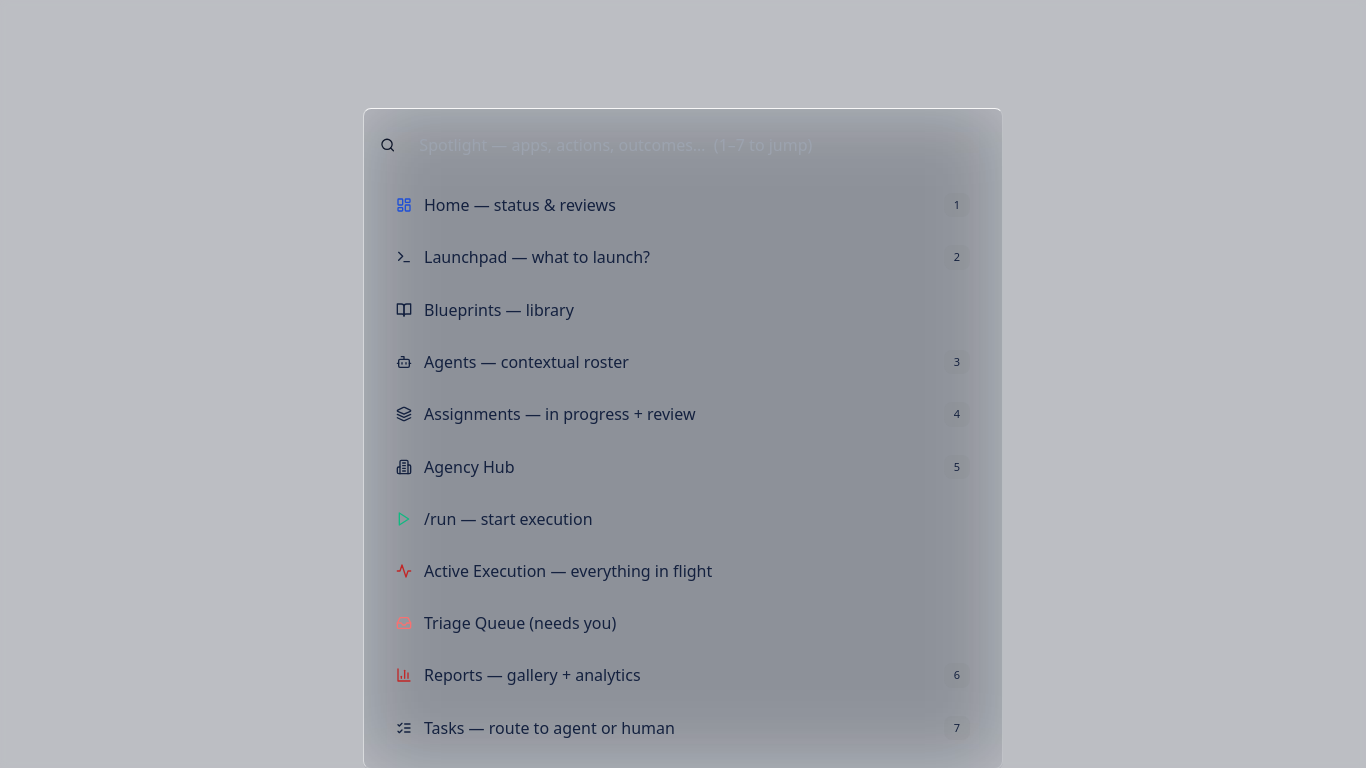
Spotlight › filters by keyword
Type "triage" into the field with placeholder "Spotlight — apps, actions, outcomes… (1–7 to jump)".
click(695, 144); type("triage")  # box [403,116,986,172]
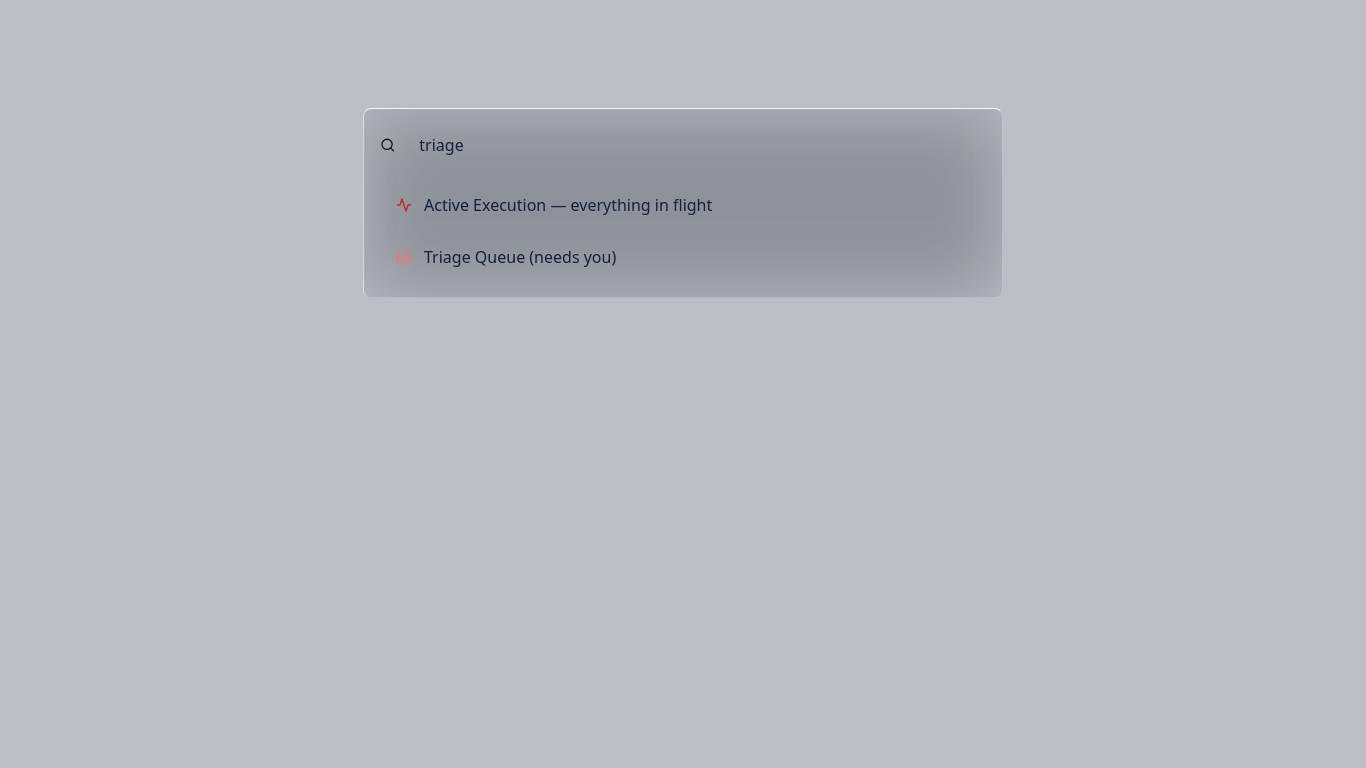
Expected: the button "Triage Queue (needs you)" is shown, [380,232,986,280]
Expected: the button "Home — status & reviews" is gone
